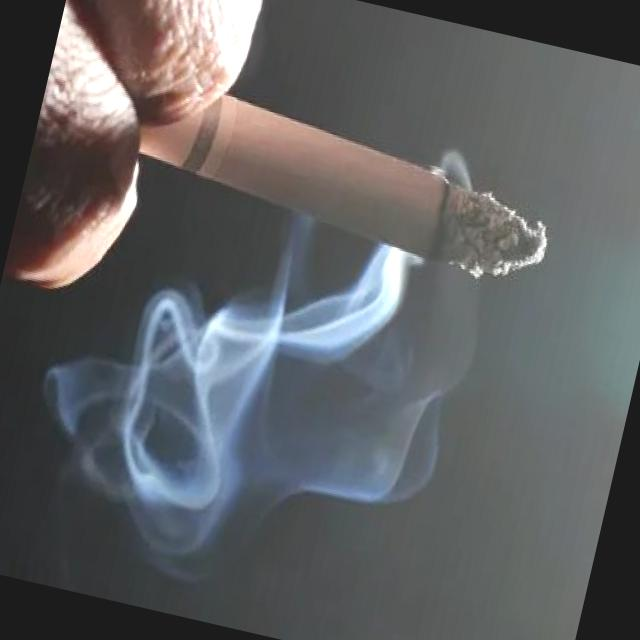smoke: (114, 82, 568, 301)
